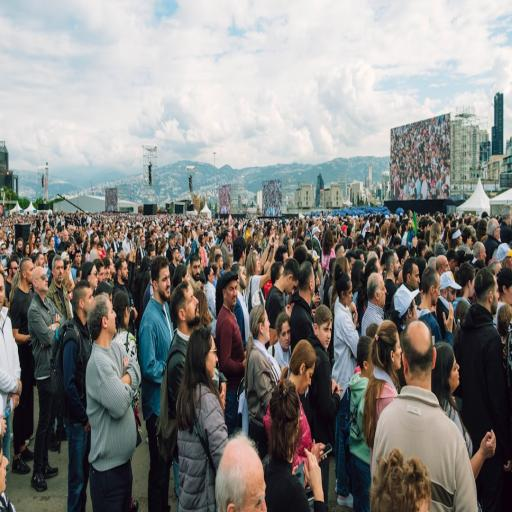face: (240, 461, 266, 511), (153, 267, 170, 301), (185, 287, 199, 328), (297, 364, 314, 394), (314, 322, 332, 349), (206, 338, 217, 378), (223, 280, 237, 311), (33, 268, 48, 293), (449, 357, 459, 393), (392, 334, 401, 370), (279, 322, 290, 351), (107, 302, 116, 336), (260, 313, 270, 341), (340, 283, 352, 306), (409, 265, 420, 290), (87, 266, 98, 290), (491, 278, 498, 315), (22, 261, 34, 282), (53, 260, 63, 285), (83, 288, 93, 312), (378, 277, 385, 307), (191, 260, 201, 281), (431, 281, 439, 306), (239, 266, 246, 289), (394, 254, 400, 278), (121, 261, 128, 281), (447, 287, 456, 302), (98, 267, 106, 283), (173, 248, 180, 264), (468, 279, 474, 296), (256, 254, 261, 274)
